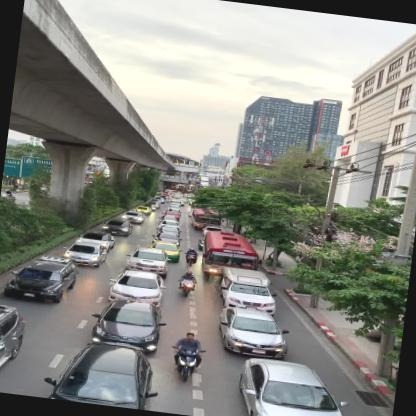bus: (198, 230, 263, 286)
car: (42, 335, 166, 411), (233, 355, 361, 415), (1, 250, 82, 308), (89, 294, 166, 355), (218, 303, 292, 360), (217, 264, 279, 314), (0, 301, 32, 394), (106, 268, 168, 308), (62, 238, 111, 270), (125, 245, 172, 273), (78, 229, 118, 250), (147, 240, 182, 262), (102, 216, 132, 238)
motorcycle: (165, 327, 209, 384), (178, 268, 198, 298), (183, 246, 197, 266)
